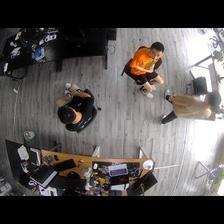normal: (54, 81, 104, 135), (119, 40, 165, 94), (165, 91, 222, 130)
